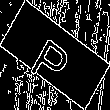P_NE: (30, 24, 80, 86)
